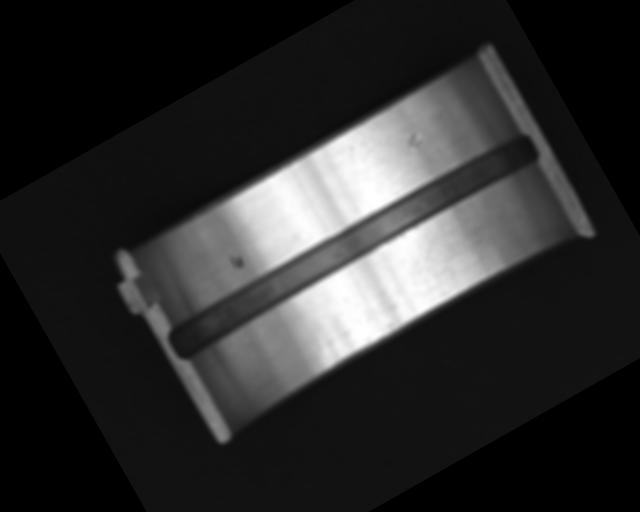blot: (227, 250, 246, 272)
bruise: (401, 128, 425, 153)
gap: (162, 124, 543, 363)
